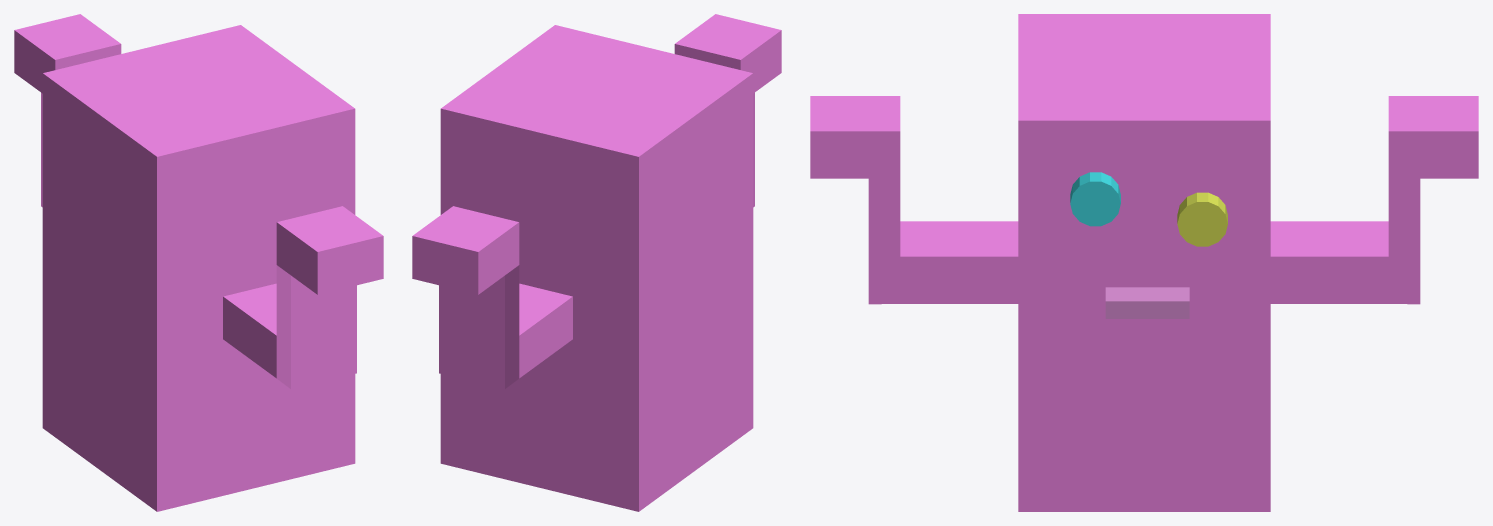
The model's file is rrobott.fbx.
3 views of the same model, side by side, from view 1: azimuth 30°, elevation 25°; view 2: azimuth 150°, elevation 25°; view 3: azimuth 270°, elevation 25° (orthographic). The views are drawn at different scales.
Parts seen in each view (by area): view 1: Cube; view 2: Cube; view 3: Cube, Cube.001, Cylinder.001, Cylinder.
Boxes of the visible parts, left/top/right/bottom form: Cube: left=14, top=14, right=383, bottom=511; Cube: left=412, top=14, right=781, bottom=511; Cube: left=810, top=14, right=1478, bottom=511; Cube.001: left=1105, top=287, right=1189, bottom=318; Cylinder.001: left=1177, top=192, right=1227, bottom=246; Cylinder: left=1070, top=172, right=1120, bottom=226.
Size of the model in its own units: 226 by 343 by 530.
